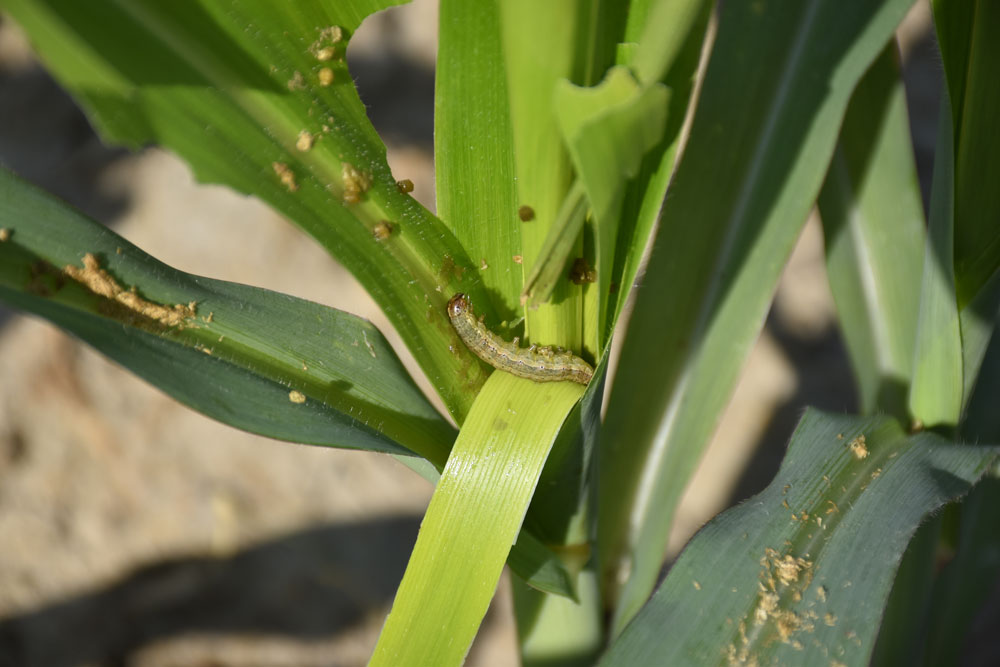Armyworm: (433, 283, 597, 392)
